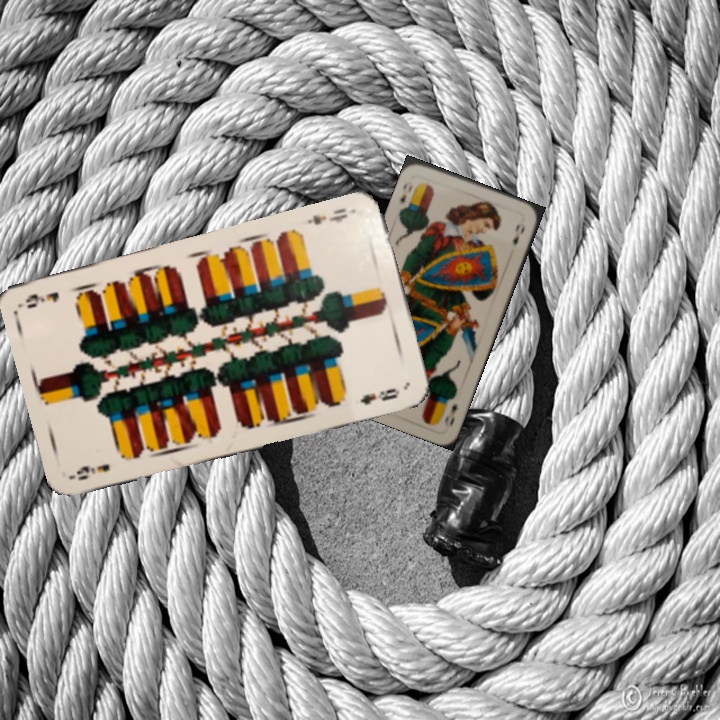E9: (303, 204, 350, 228), (68, 459, 113, 483)
EO: (440, 400, 460, 431), (396, 179, 415, 207)
